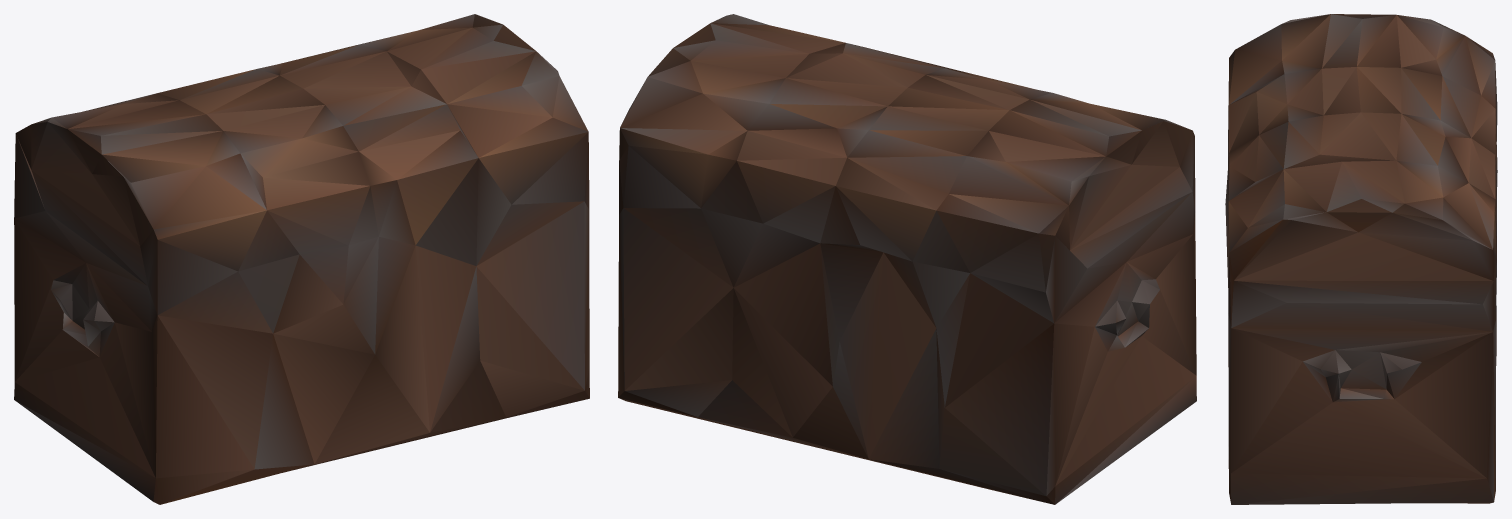
Rendered from chest.glb.
3 views of the same model, side by side, from view 1: azimuth 30°, elevation 25°; view 2: azimuth 150°, elevation 25°; view 3: azimuth 270°, elevation 25° (orthographic). The views are drawn at different scales.
Parts seen in each view (by area): view 1: chest; view 2: chest; view 3: chest.
Boxes of the visible parts, <box> form: chest: <box>14,14,589,504</box>; chest: <box>618,14,1196,504</box>; chest: <box>1225,14,1497,504</box>.
Bounding box in the file's own units: 2.9 × 1.9 × 1.58.
